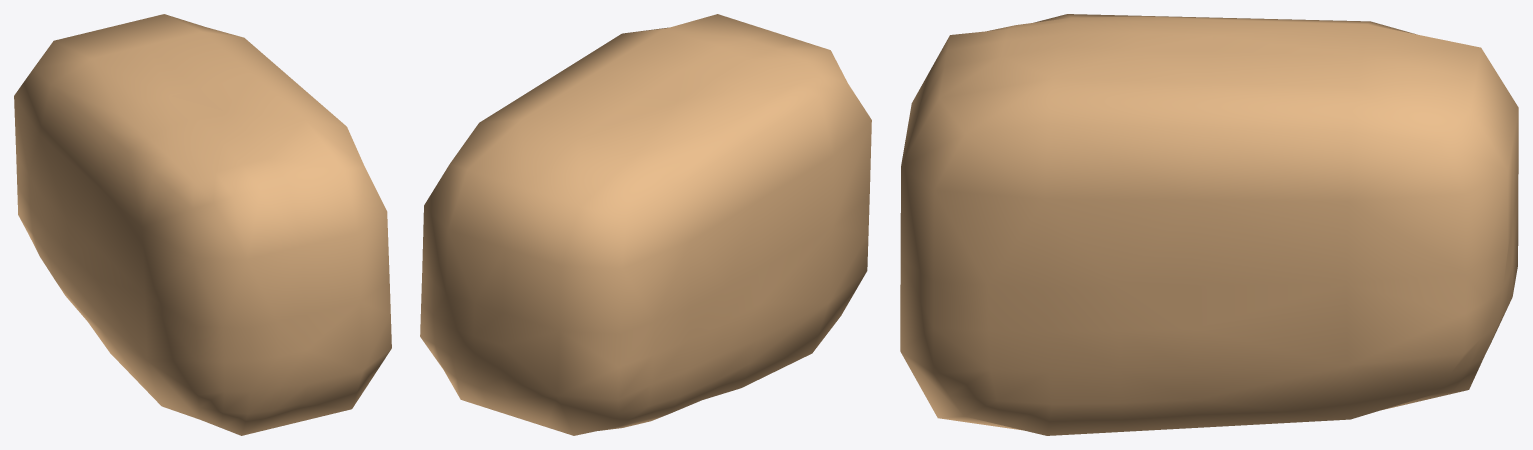
Rendered from middle_01_l.dae.
The picture shows the model from 3 angles, left to right: view 1: azimuth 30°, elevation 25°; view 2: azimuth 150°, elevation 25°; view 3: azimuth 270°, elevation 25°; orthographic projection. The views are drawn at different scales.
Visible parts, largest first — view 1: skin_geo_middle_01_r; view 2: skin_geo_middle_01_r; view 3: skin_geo_middle_01_r.
Boxes of the visible parts, bbox=[...] form: skin_geo_middle_01_r: bbox=[14, 14, 391, 435]; skin_geo_middle_01_r: bbox=[420, 14, 871, 435]; skin_geo_middle_01_r: bbox=[900, 14, 1518, 435].
Bounding box in the file's own units: 0.0239 × 0.0426 × 0.027.
